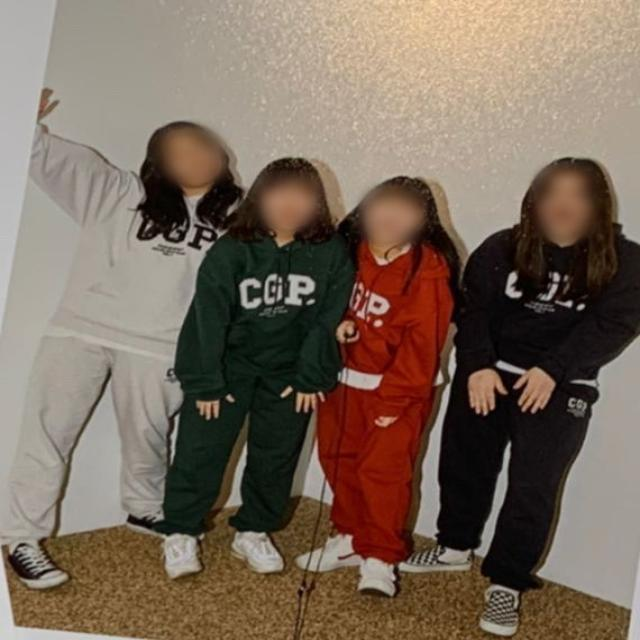hoodies: (26, 125, 216, 365), (453, 221, 639, 394), (178, 227, 354, 399), (339, 228, 454, 414)
trainingpants: (0, 333, 179, 544), (439, 362, 597, 592), (165, 378, 317, 540), (318, 382, 438, 566)
